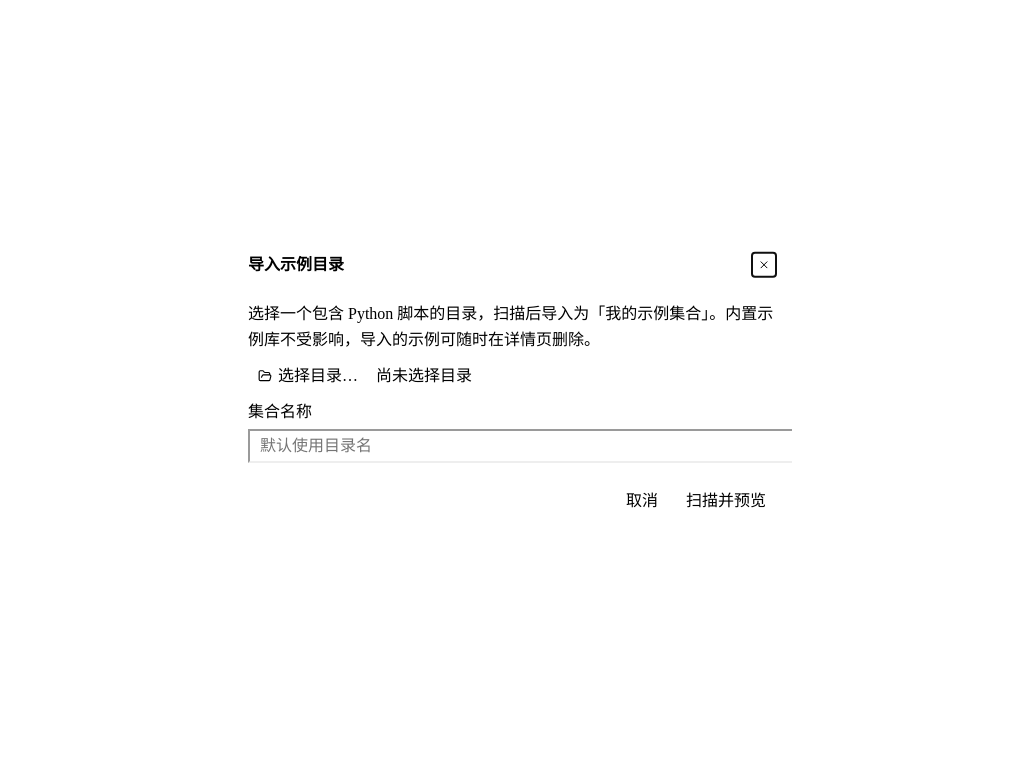
Test: ImportWizardModal › 选目录后自动扫描进入预览：展示文件、最多 2 个依赖徽标与体积
Click the button "选择目录…" at (308,376), box [248, 364, 368, 388]
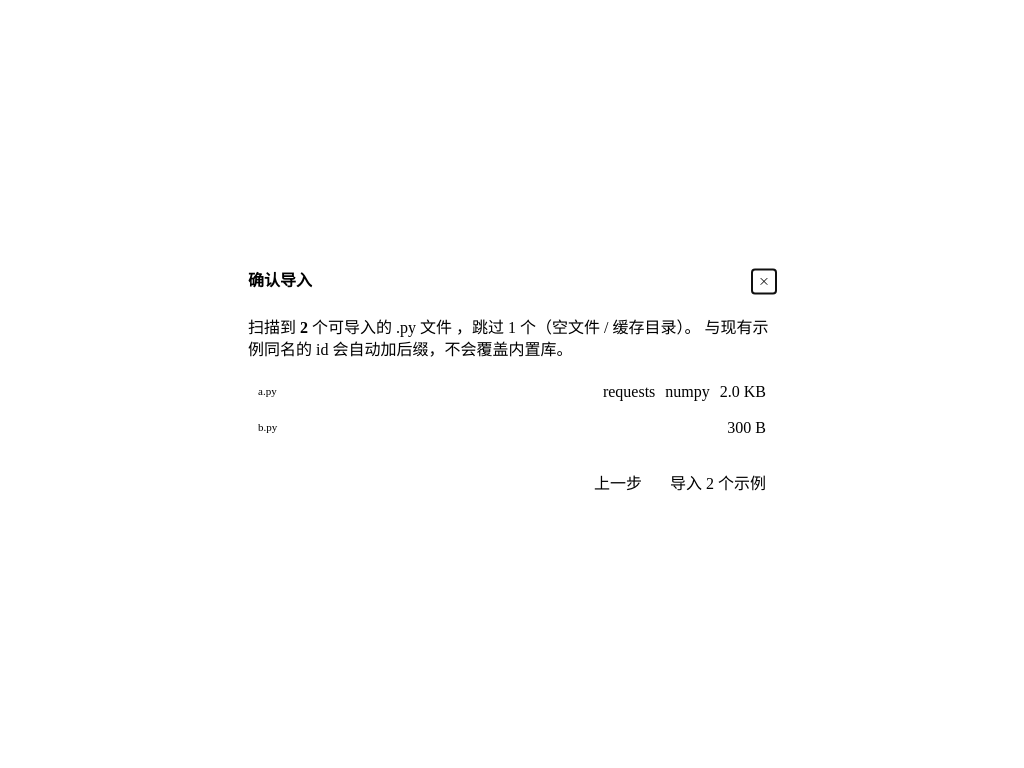
Expected: the text "确认导入" is shown, [248, 271, 312, 292]
Expected: the dialog shows "扫描到", [248, 319, 300, 336]
Expected: the dialog shows "a.py", [258, 386, 277, 398]
